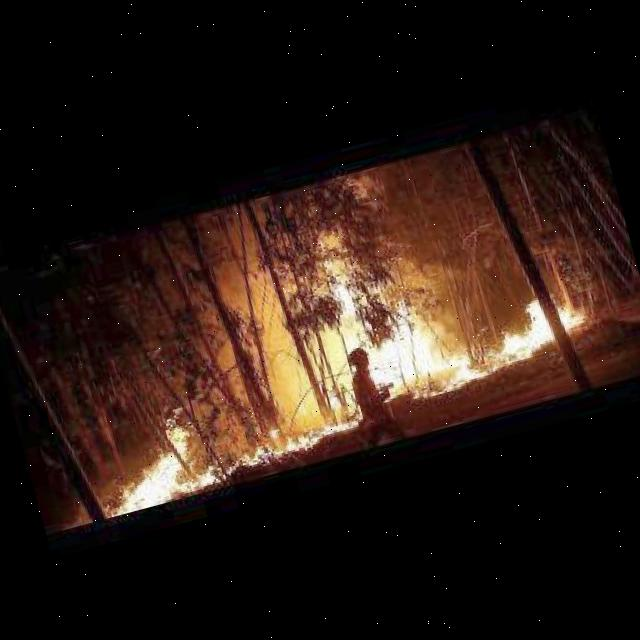fire: (258, 164, 593, 420), (90, 386, 289, 515)
